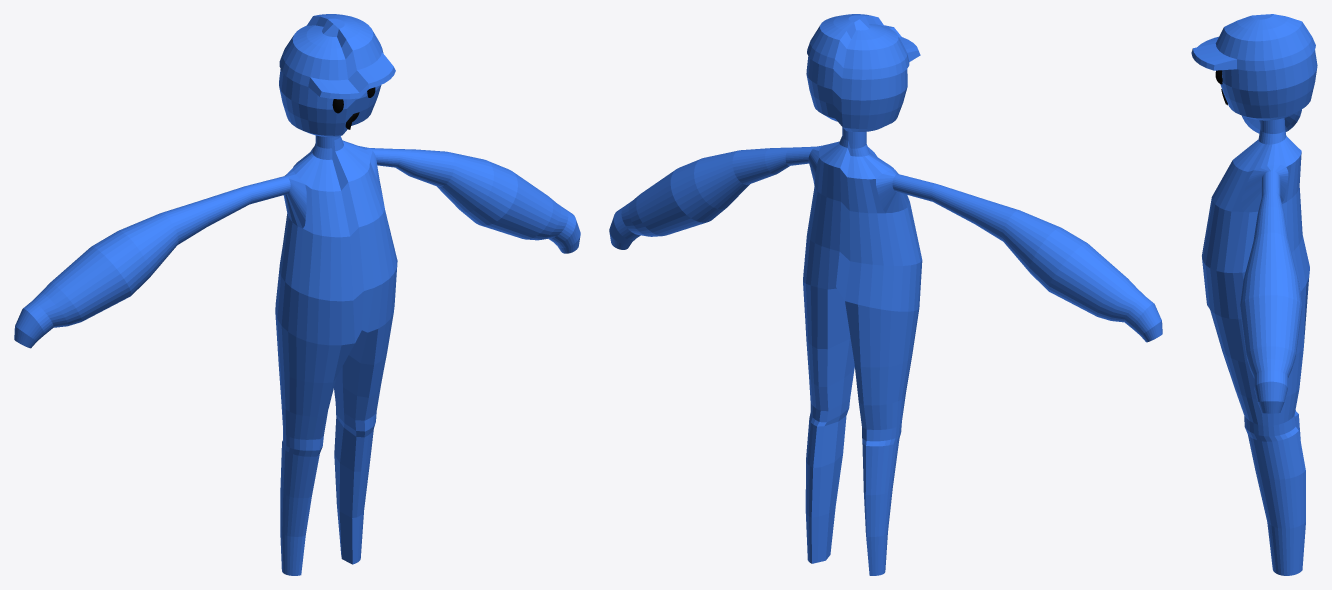
The model's file is tall_guy.gltf.
3 renders of one model, left to right at view 1: azimuth 30°, elevation 25°; view 2: azimuth 150°, elevation 25°; view 3: azimuth 270°, elevation 25°, orthographic. The views are drawn at different scales.
Visible parts, largest first — view 1: Cylinder; view 2: Cylinder; view 3: Cylinder.
Boxes of the visible parts, box(x1,y1,x2,y2) form: Cylinder: box(14, 14, 580, 575); Cylinder: box(609, 14, 1162, 575); Cylinder: box(1191, 14, 1317, 575).
Bounding box in the file's own units: 5.26 × 4.92 × 1.03.
